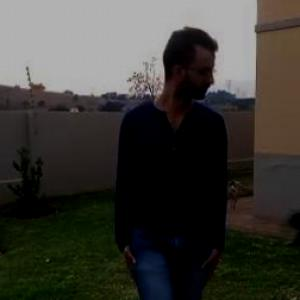follow: (117, 15, 233, 299)
